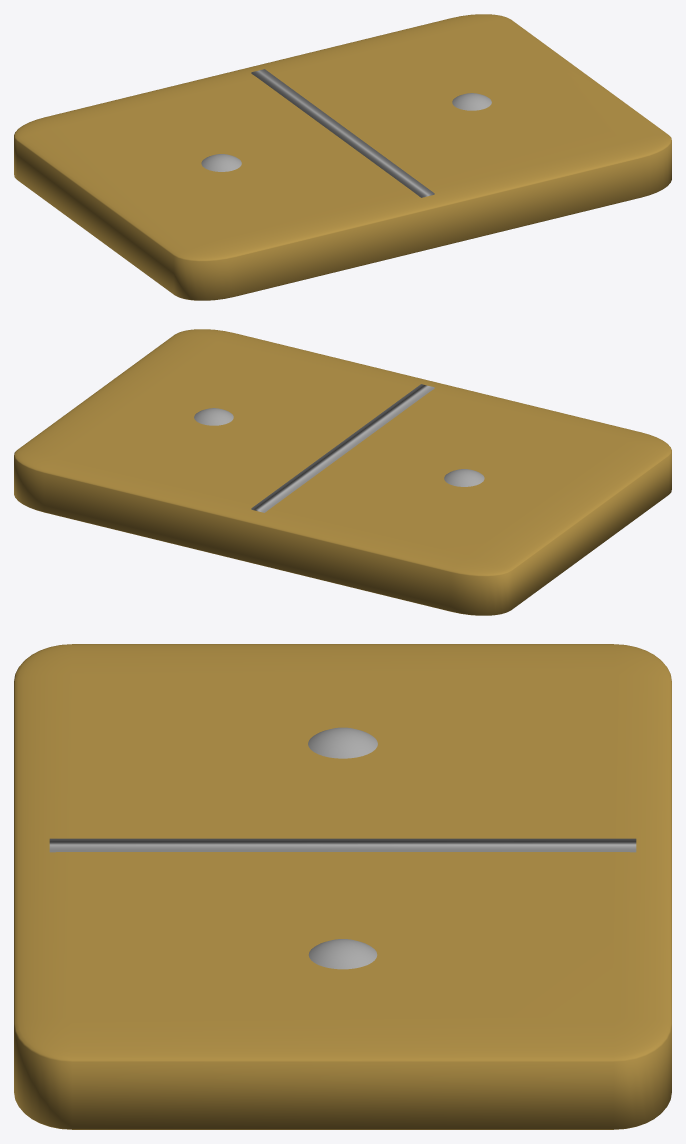
The model's file is gold_domino.fbx.
The picture shows the model from 3 angles, top to bottom: view 1: azimuth 30°, elevation 25°; view 2: azimuth 150°, elevation 25°; view 3: azimuth 270°, elevation 25°; orthographic projection. The views are drawn at different scales.
Parts seen in each view (by area): view 1: Cube.001, Cube.002, Sphere, Sphere.001; view 2: Cube.001, Cube.002, Sphere, Sphere.001; view 3: Cube.001, Cube.002, Sphere, Sphere.001.
Part boxes in pixels (<box>): Cube.001: <box>14,14,671,300</box>; Cube.002: <box>251,69,434,197</box>; Sphere: <box>201,154,241,171</box>; Sphere.001: <box>452,93,491,110</box>; Cube.001: <box>14,329,671,615</box>; Cube.002: <box>251,384,434,512</box>; Sphere: <box>444,469,484,486</box>; Sphere.001: <box>194,408,233,425</box>; Cube.001: <box>14,644,671,1129</box>; Cube.002: <box>49,838,636,852</box>; Sphere: <box>308,727,377,758</box>; Sphere.001: <box>308,939,377,969</box>.
Size of the model in its own units: 300 by 34.83 by 200.
